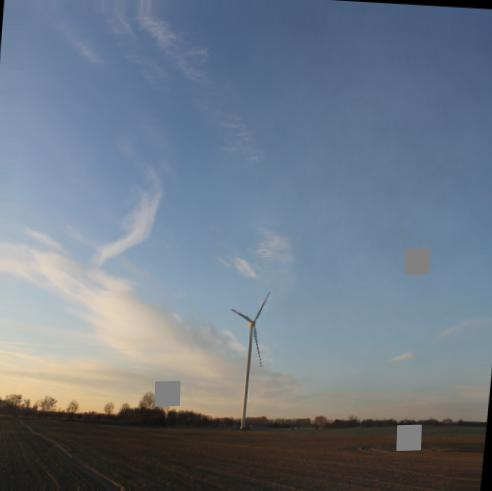wind turbine: (228, 290, 271, 428)
